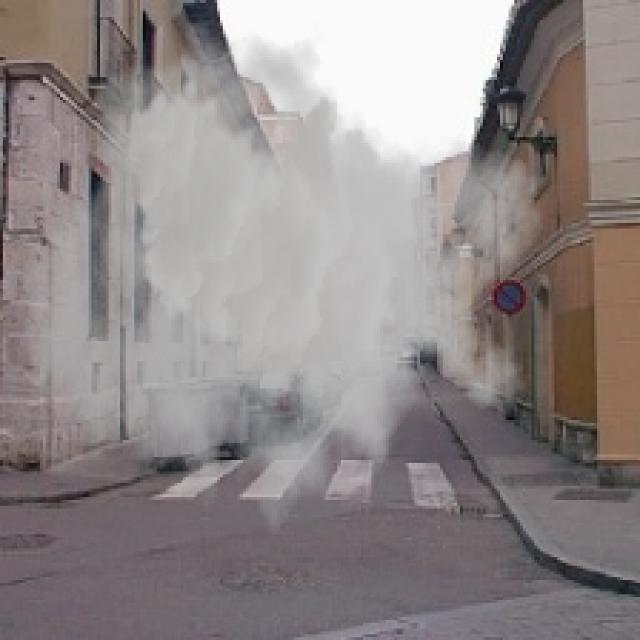Smoke: (20, 17, 546, 560)
